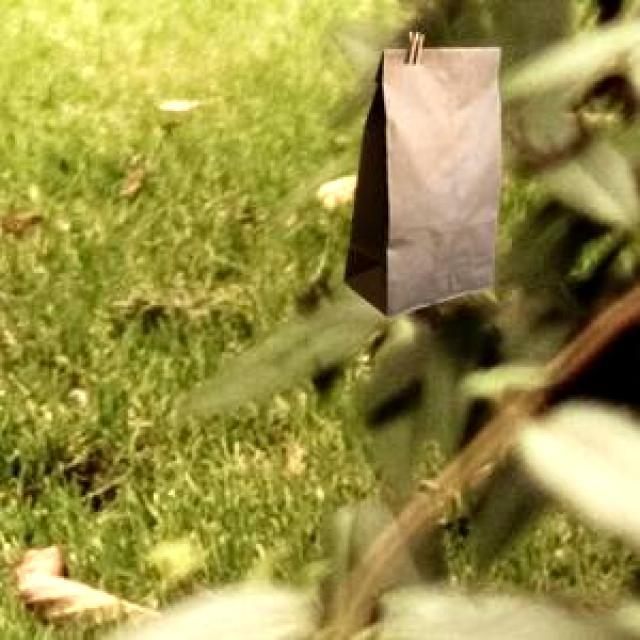Paper_Bag: (340, 28, 498, 314)
